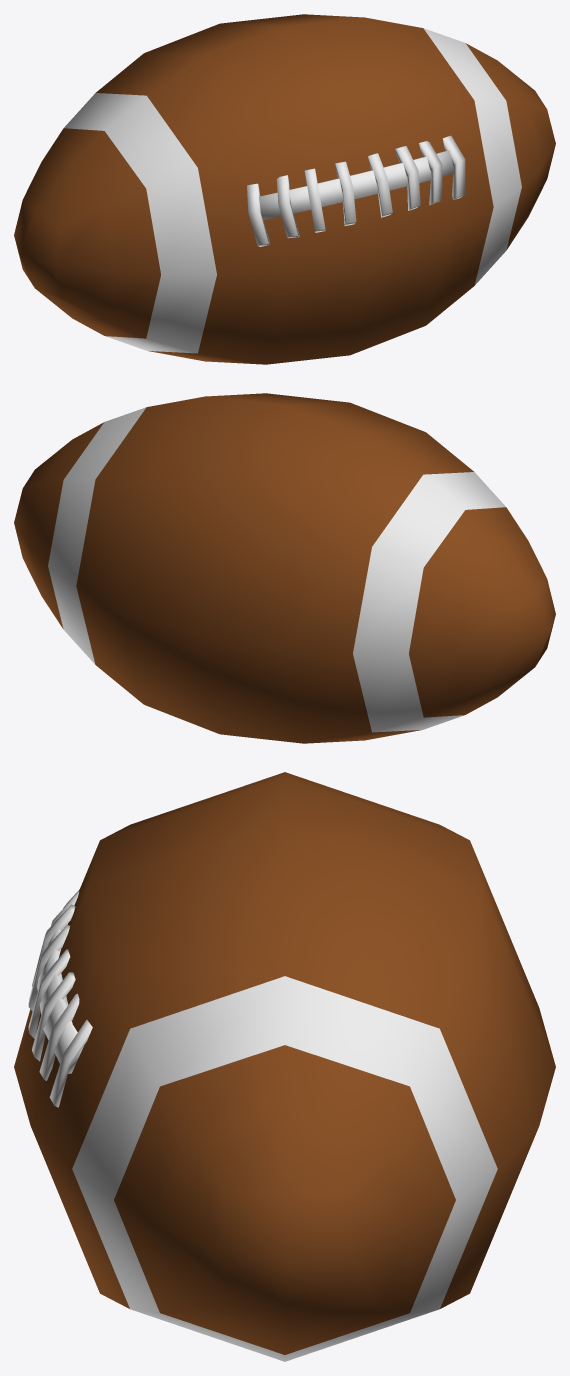
File: football.fbx
3 renders of one model, top to bottom at view 1: azimuth 30°, elevation 25°; view 2: azimuth 150°, elevation 25°; view 3: azimuth 270°, elevation 25°, orthographic. The views are drawn at different scales.
Visible parts, largest first — view 1: Cube; view 2: Cube; view 3: Cube.
Boxes of the visible parts, x1,y1,x2,y2 form: Cube: [14, 14, 555, 364]; Cube: [14, 393, 555, 743]; Cube: [14, 772, 555, 1361].
Bounding box in the file's own units: 331 × 194 × 194.
